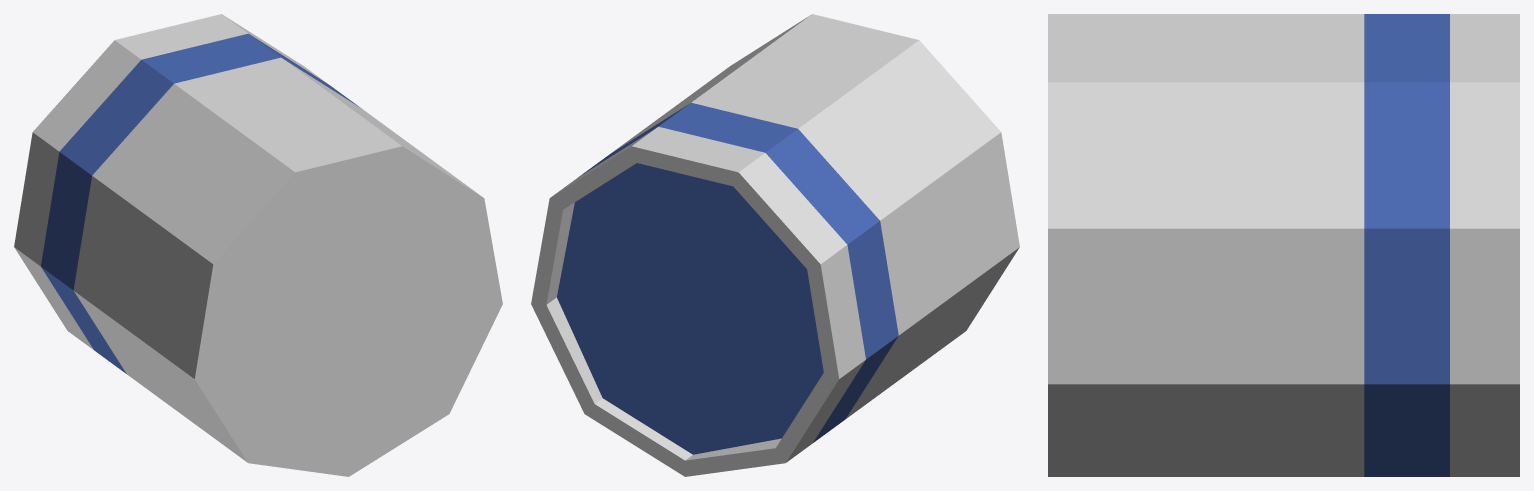
The model's file is paint-bucket.glb.
3 views of the same model, side by side, from view 1: azimuth 30°, elevation 25°; view 2: azimuth 150°, elevation 25°; view 3: azimuth 270°, elevation 25° (orthographic). The views are drawn at different scales.
Visible parts, largest first — view 1: paint-bucket; view 2: paint-bucket; view 3: paint-bucket.
Part boxes in pixels (x1,y1,x2,y2): paint-bucket: (14,14,502,476); paint-bucket: (531,14,1019,476); paint-bucket: (1048,14,1519,476).
Size of the model in its own units: 1.48 by 1.45 by 1.5.
